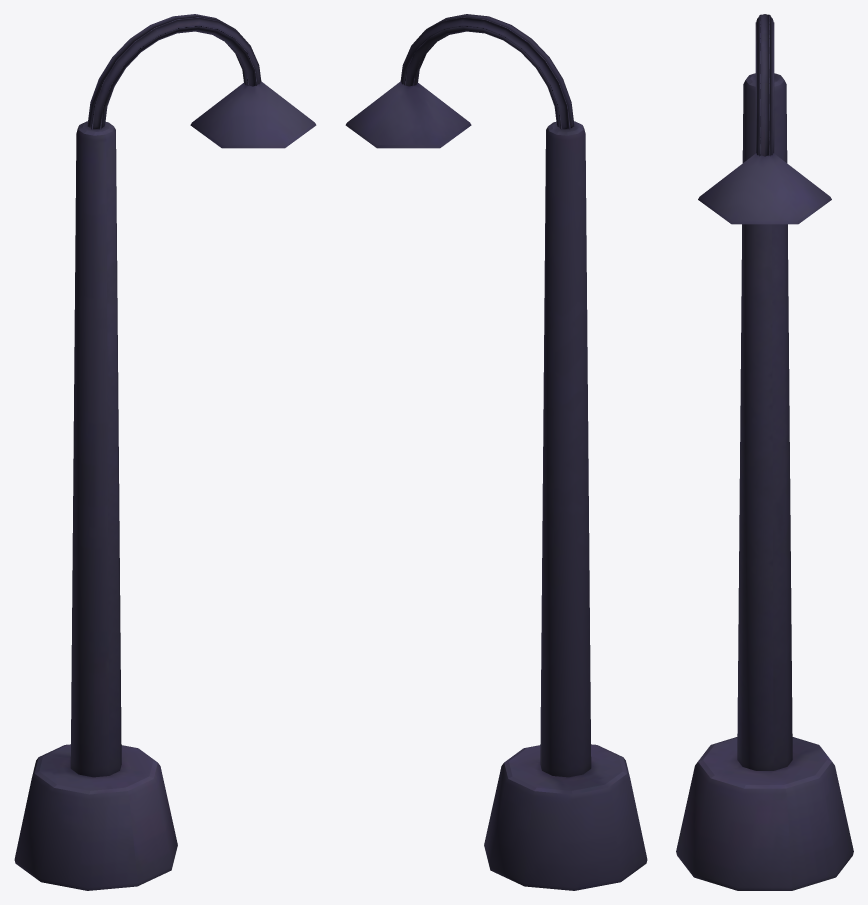
The model's file is streetLamp.glb.
3 views of the same model, side by side, from view 1: azimuth 30°, elevation 25°; view 2: azimuth 150°, elevation 25°; view 3: azimuth 270°, elevation 25° (orthographic). The views are drawn at different scales.
Visible parts, largest first — view 1: Mesh_0; view 2: Mesh_0; view 3: Mesh_0.
Boxes of the visible parts, left/top/right/bottom form: Mesh_0: left=14, top=14, right=316, bottom=890; Mesh_0: left=345, top=14, right=647, bottom=890; Mesh_0: left=676, top=14, right=853, bottom=890.
Bounding box in the file's own units: 1.56 × 4.49 × 0.8279.
1 material, 1 textured.
